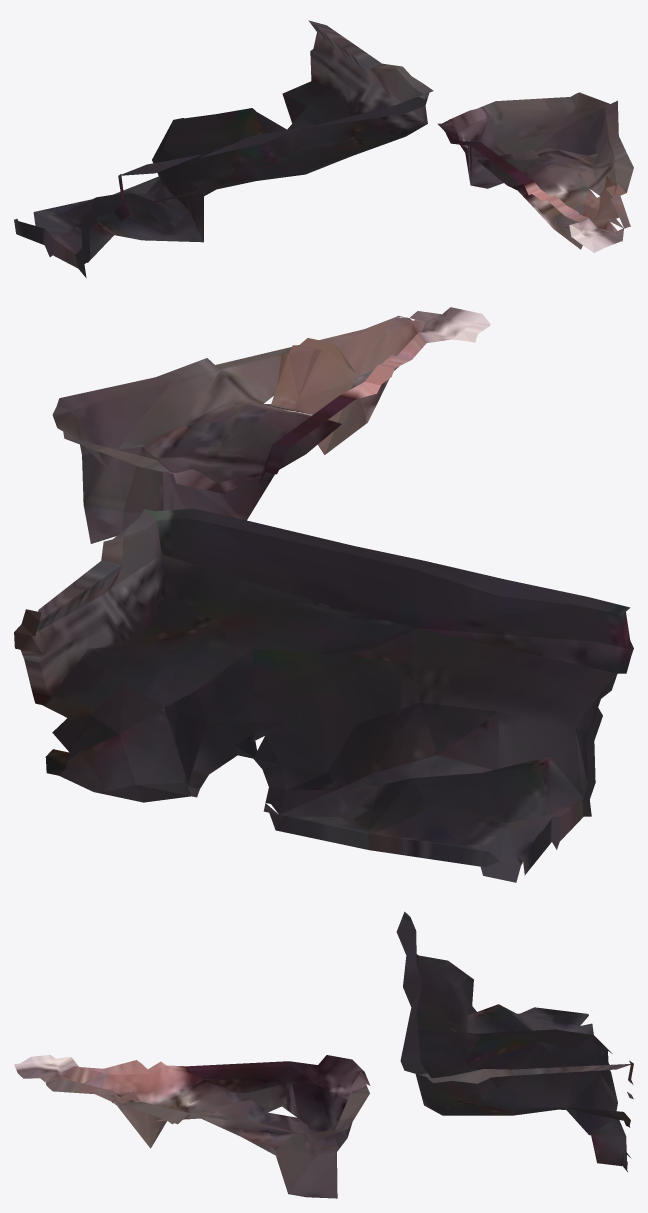
3 views of the same model, one above another, from view 1: azimuth 30°, elevation 25°; view 2: azimuth 150°, elevation 25°; view 3: azimuth 270°, elevation 25° (orthographic). The views are drawn at different scales.
Visible parts, largest first — view 1: Mesh_0; view 2: Mesh_0; view 3: Mesh_0.
Boxes of the visible parts, <box> form: Mesh_0: <box>14,20,633,278</box>; Mesh_0: <box>14,307,633,882</box>; Mesh_0: <box>14,911,633,1198</box>.
Size of the model in its own units: 20.05 by 5.28 by 22.66.
Materials: 1 (1 with a texture image).
